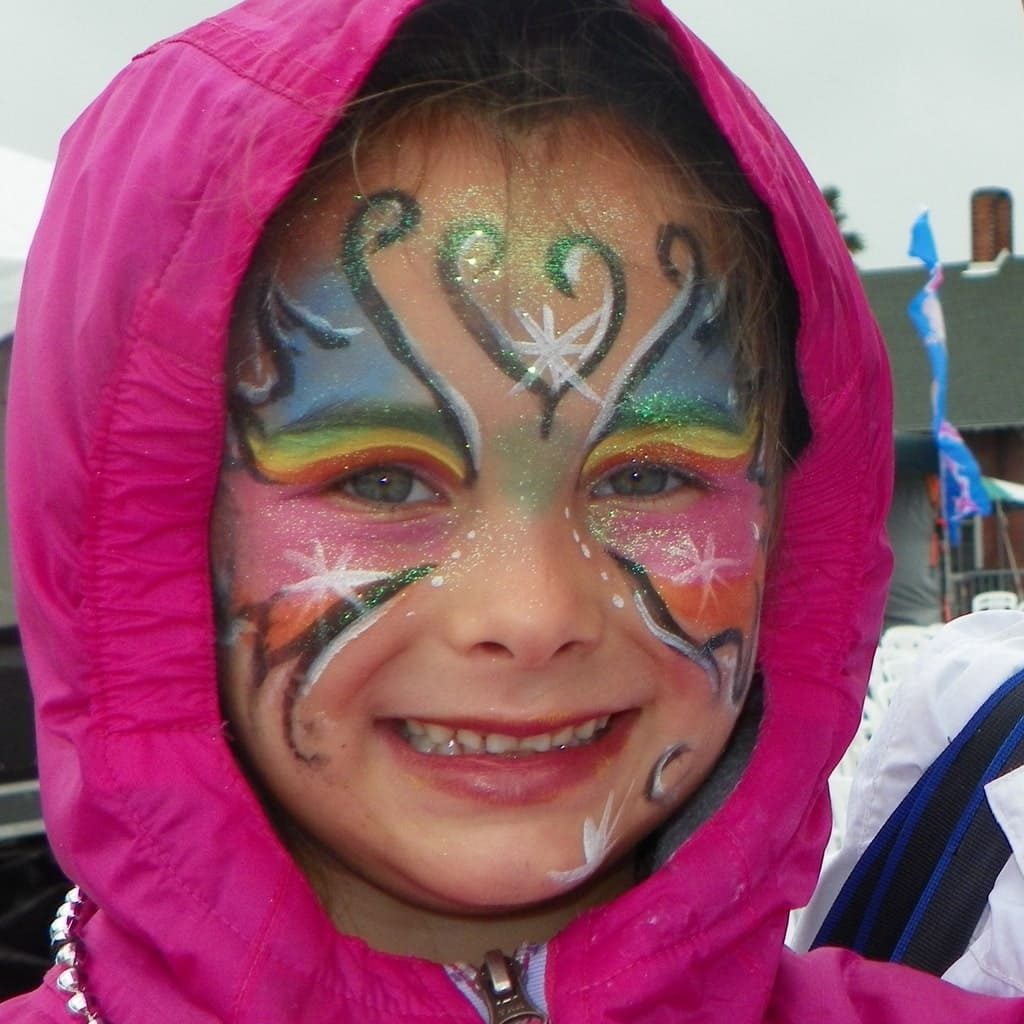without_mask: (209, 186, 780, 873)
